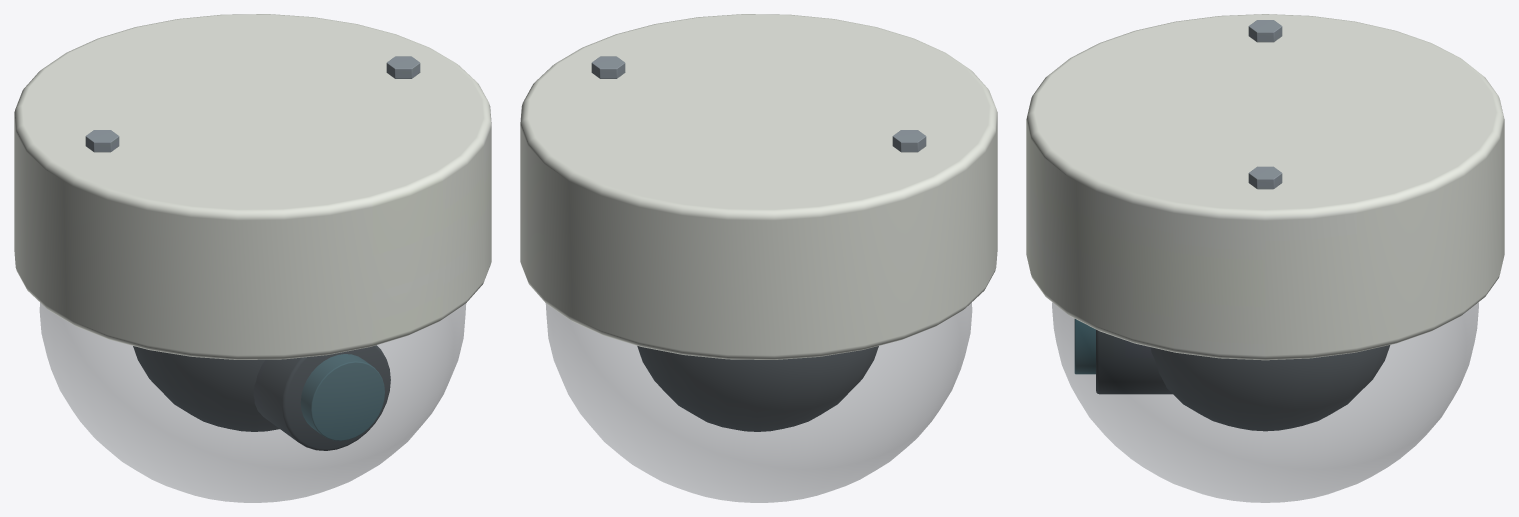
File: ceiling-dome-security-camera.glb
The picture shows the model from 3 angles, left to right: view 1: azimuth 30°, elevation 25°; view 2: azimuth 150°, elevation 25°; view 3: azimuth 270°, elevation 25°; orthographic projection.
Visible parts, largest first — view 1: Camera ceiling base, Smoked transparent dome, Camera gimbal, Lens glass, Camera lens, Camera fixing screw.001, Camera fixing screw; view 2: Camera ceiling base, Smoked transparent dome, Camera gimbal, Camera fixing screw.001, Camera fixing screw; view 3: Camera ceiling base, Smoked transparent dome, Camera gimbal, Camera lens, Lens glass, Camera fixing screw, Camera fixing screw.001.
Part boxes in pixels (<box>): Camera ceiling base: <box>14,14,491,359</box>; Smoked transparent dome: <box>39,302,466,502</box>; Camera gimbal: <box>133,346,279,431</box>; Lens glass: <box>300,354,384,440</box>; Camera lens: <box>253,345,390,450</box>; Camera fixing screw.001: <box>85,130,119,152</box>; Camera fixing screw: <box>386,56,420,78</box>; Camera ceiling base: <box>520,14,997,359</box>; Smoked transparent dome: <box>545,302,972,502</box>; Camera gimbal: <box>637,346,878,431</box>; Camera fixing screw.001: <box>892,130,926,152</box>; Camera fixing screw: <box>591,56,625,78</box>; Camera ceiling base: <box>1026,14,1504,360</box>; Smoked transparent dome: <box>1052,302,1478,502</box>; Camera gimbal: <box>1150,345,1390,431</box>; Camera lens: <box>1096,329,1172,394</box>; Lens glass: <box>1074,319,1095,374</box>; Camera fixing screw: <box>1248,166,1282,189</box>; Camera fixing screw.001: <box>1248,20,1282,42</box>.
Bounding box in the file's own units: 0.168 × 0.148 × 0.168.
5 materials, 5 textured.
